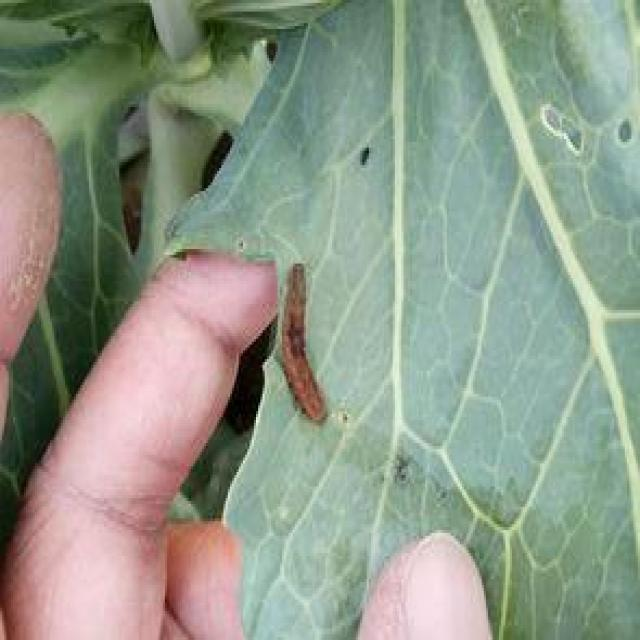BeetArmyWorm-Larva-: (276, 253, 336, 442)
